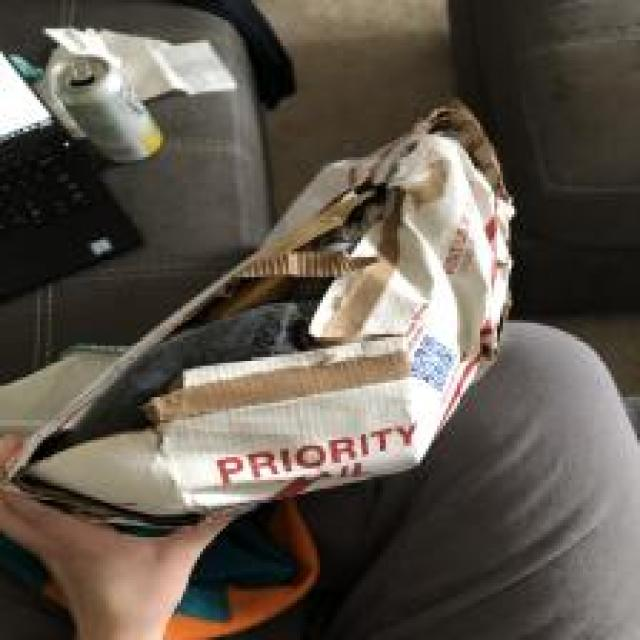box: (101, 262, 608, 640), (37, 122, 496, 425)
